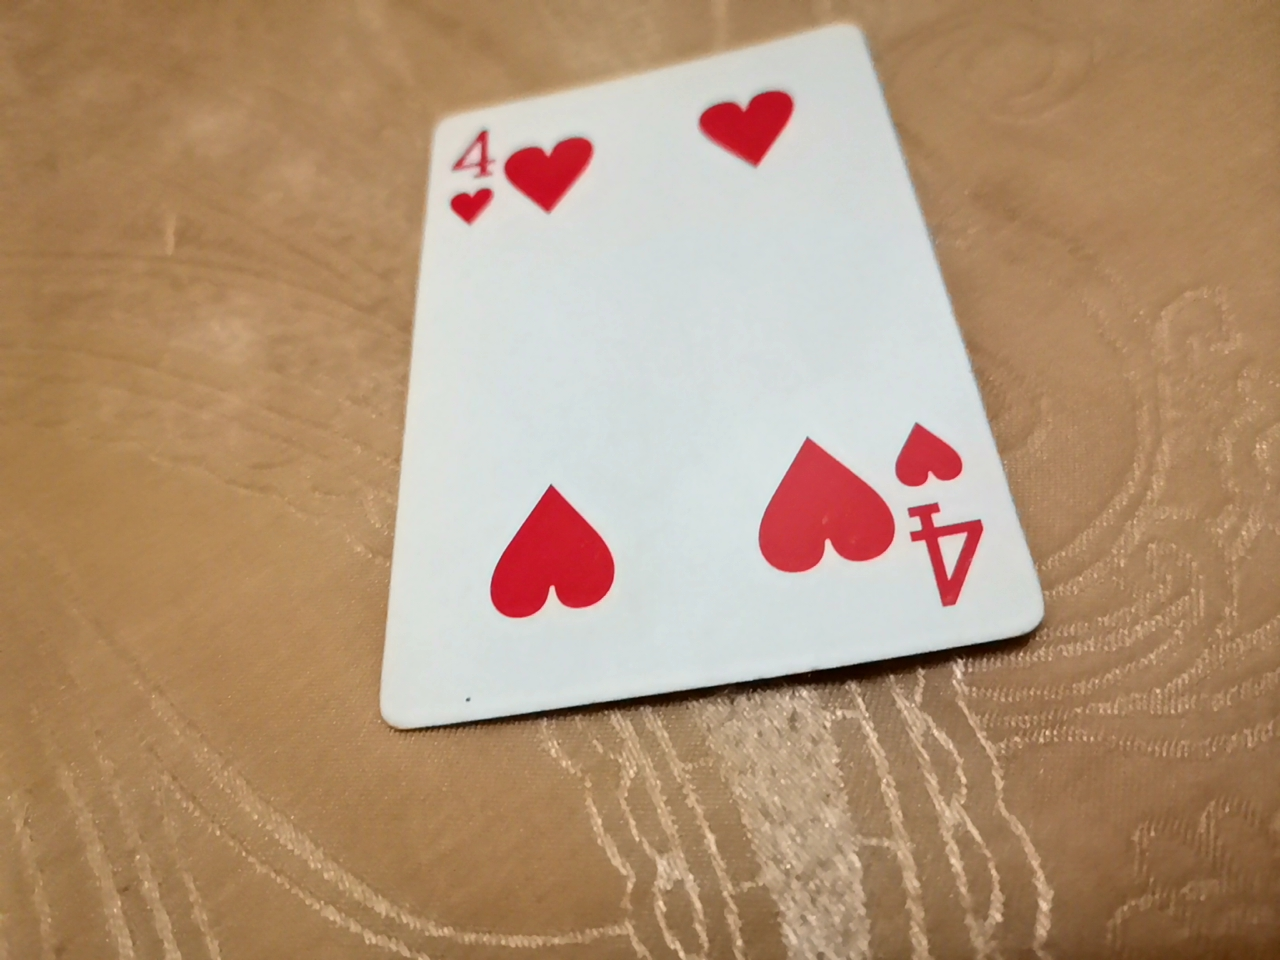hx 4: (392, 9, 1046, 716)
